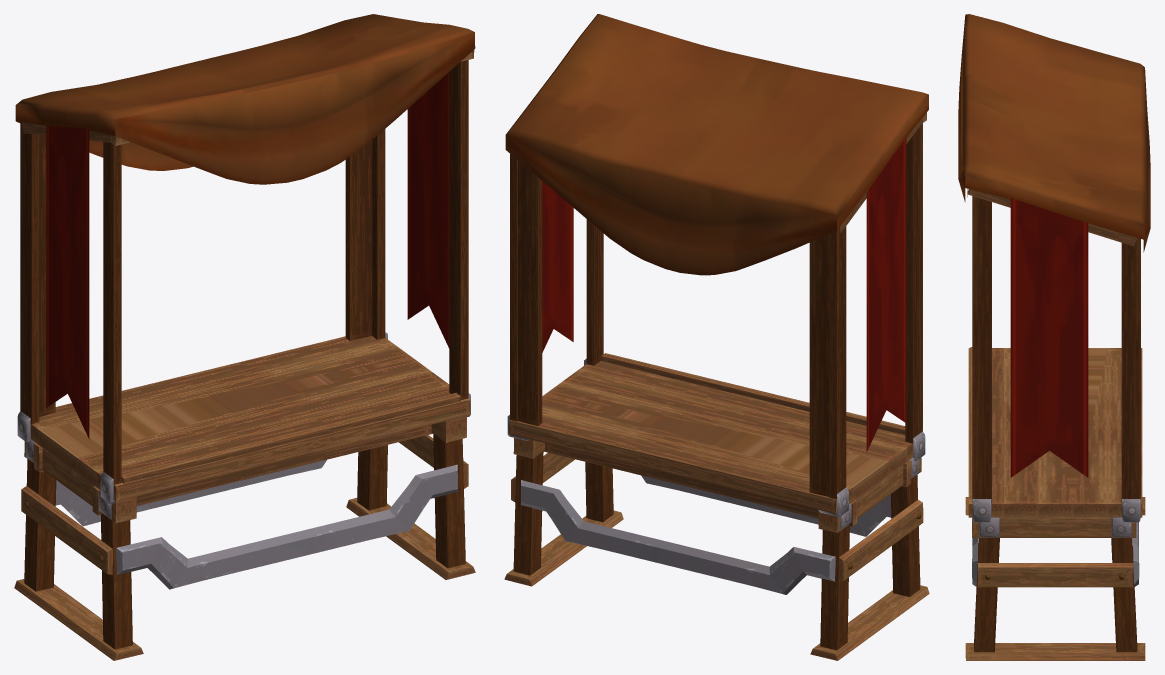
Rendered from Stall_Empty.glb.
3 views of the same model, side by side, from view 1: azimuth 30°, elevation 25°; view 2: azimuth 150°, elevation 25°; view 3: azimuth 270°, elevation 25° (orthographic). The views are drawn at different scales.
Visible parts, largest first — view 1: Stall_Empty; view 2: Stall_Empty; view 3: Stall_Empty.
Part boxes in pixels (<box>): Stall_Empty: <box>14,14,475,660</box>; Stall_Empty: <box>504,14,929,660</box>; Stall_Empty: <box>958,14,1150,660</box>.
Bounding box in the file's own units: 1.84 × 2.63 × 0.9323.
3 materials, 3 textured.
